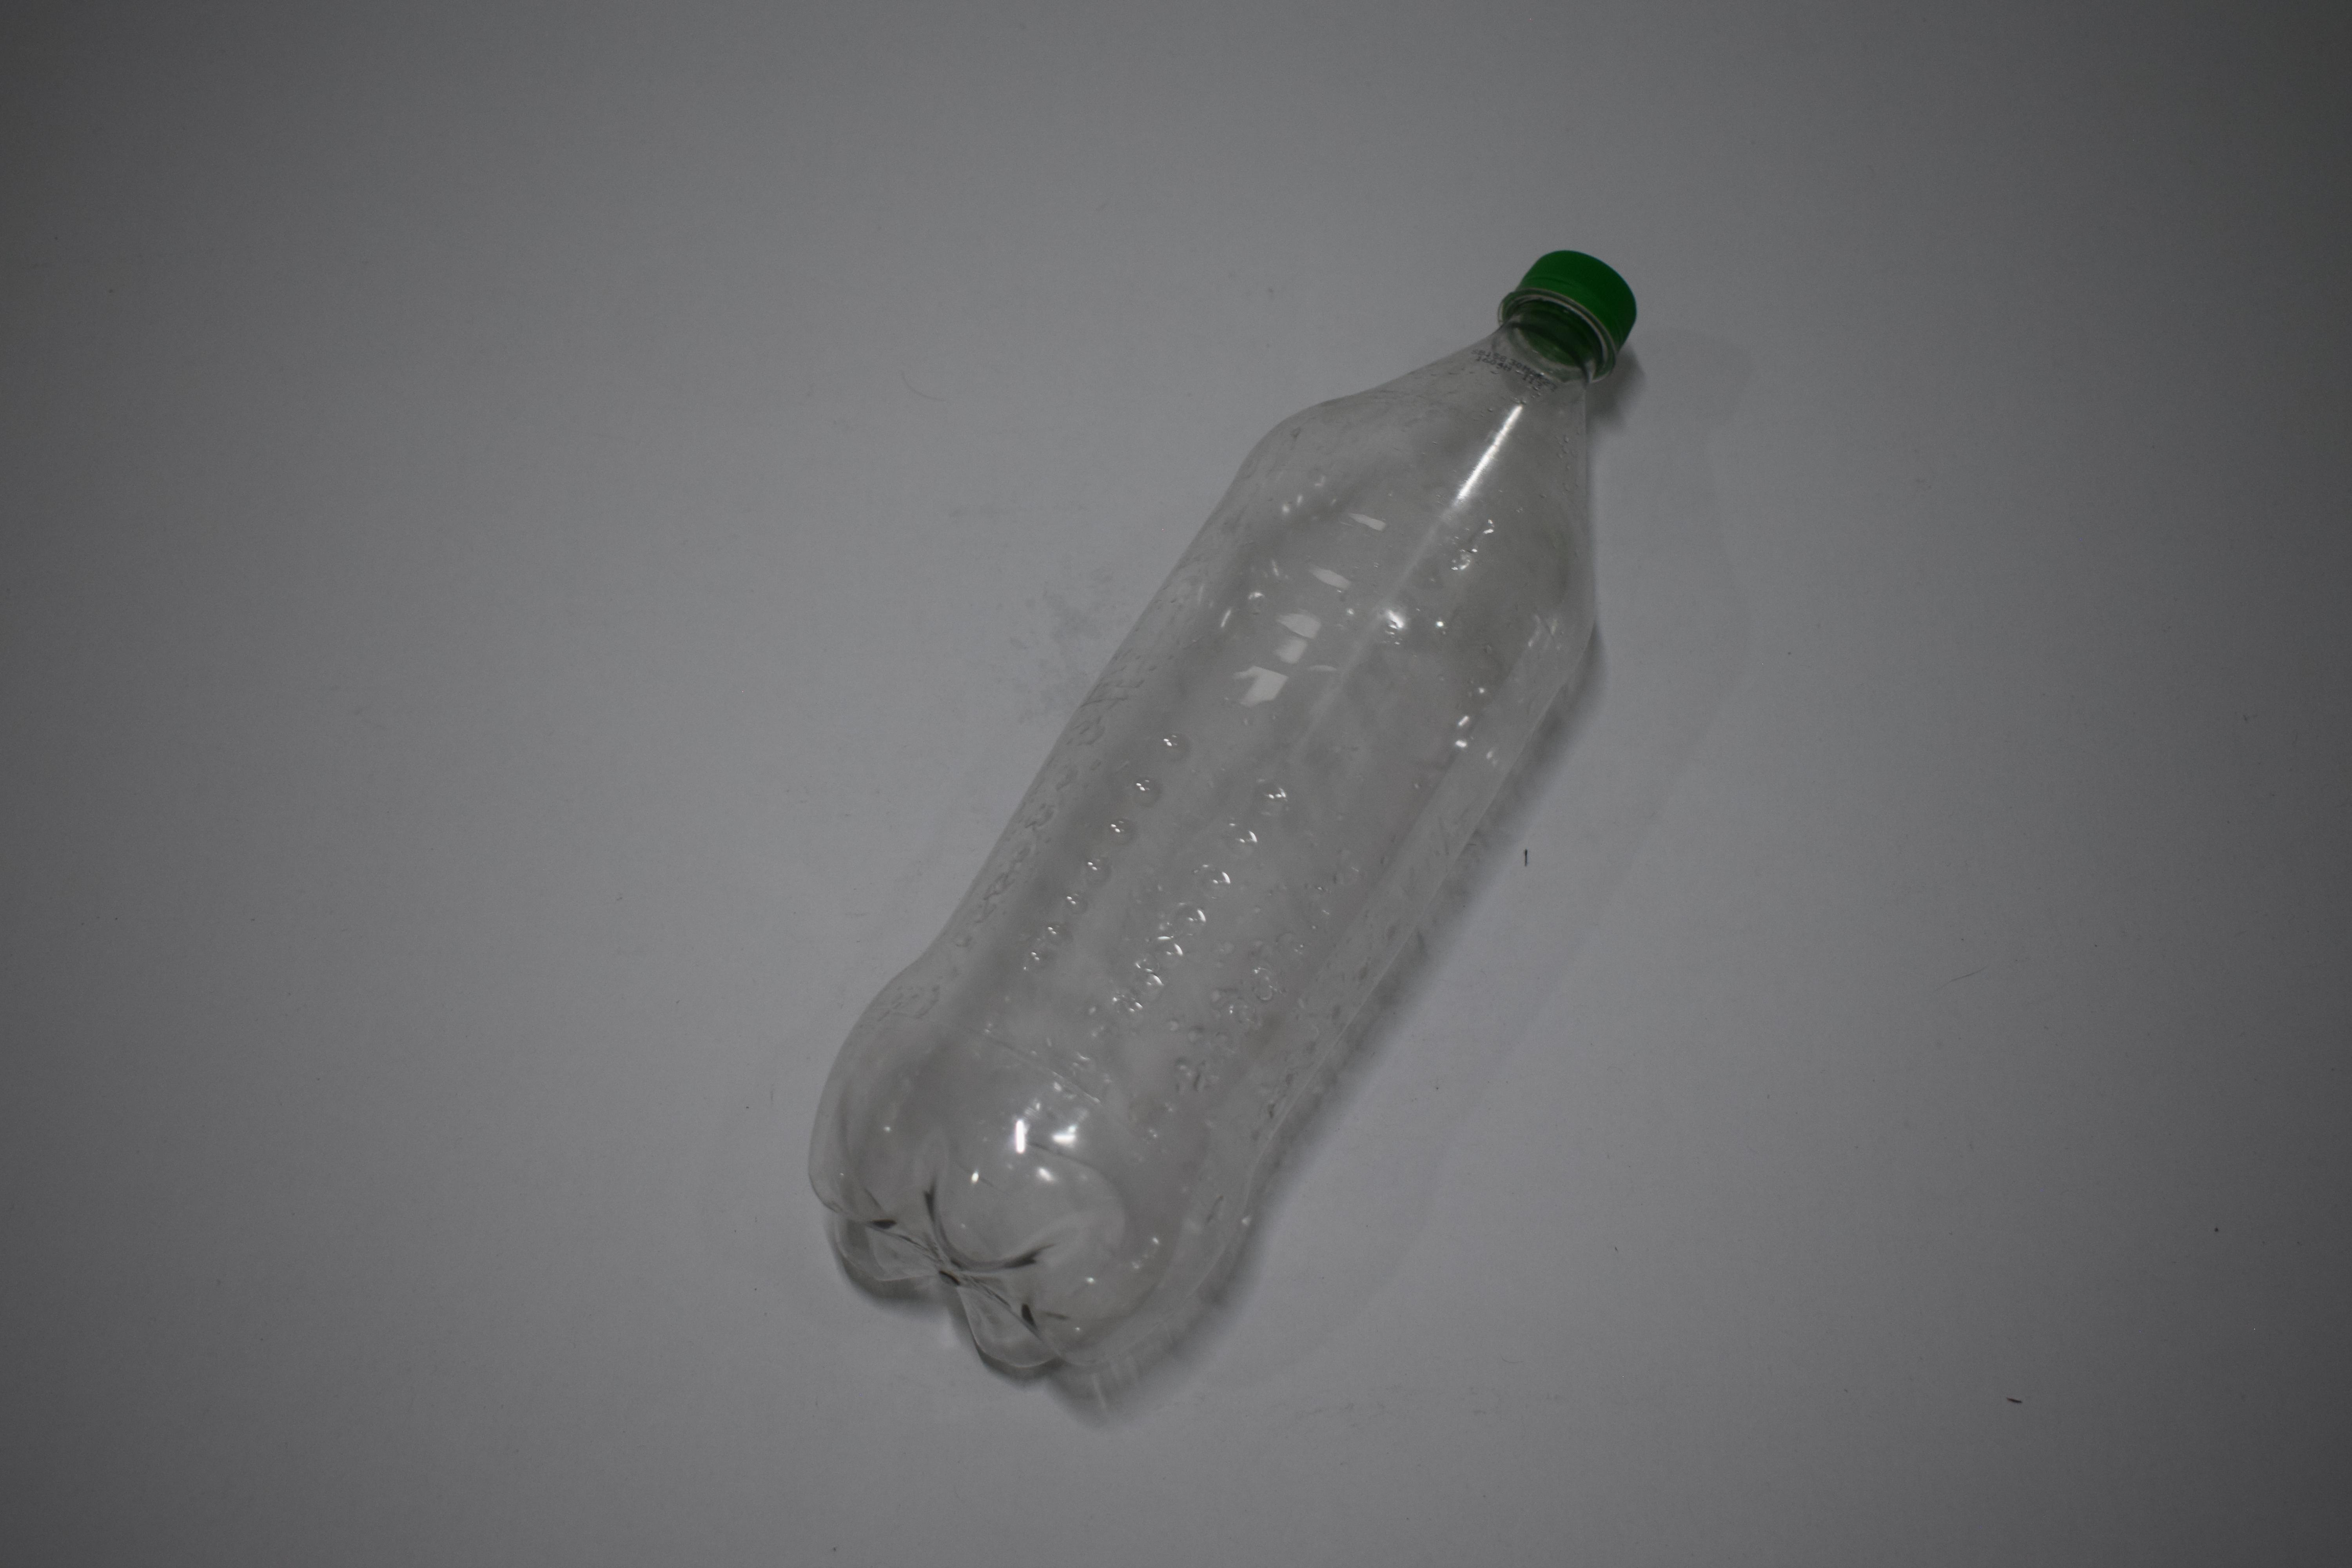bottle: (0, 0, 402, 623)
